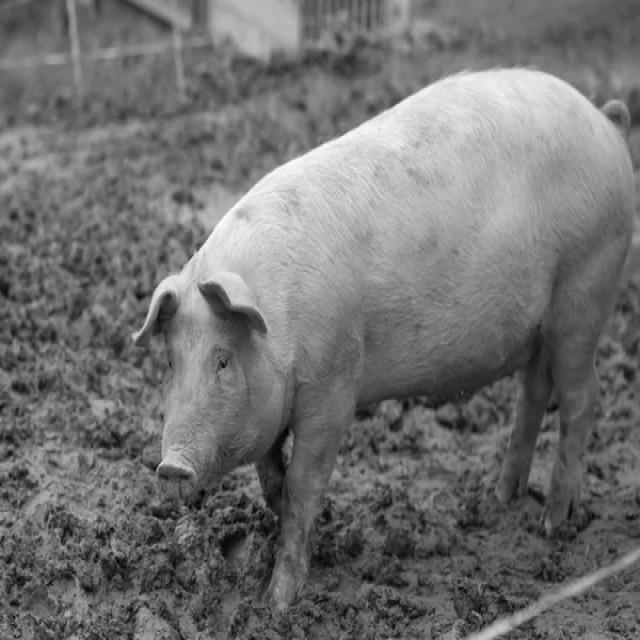Animal: (134, 68, 636, 610)
